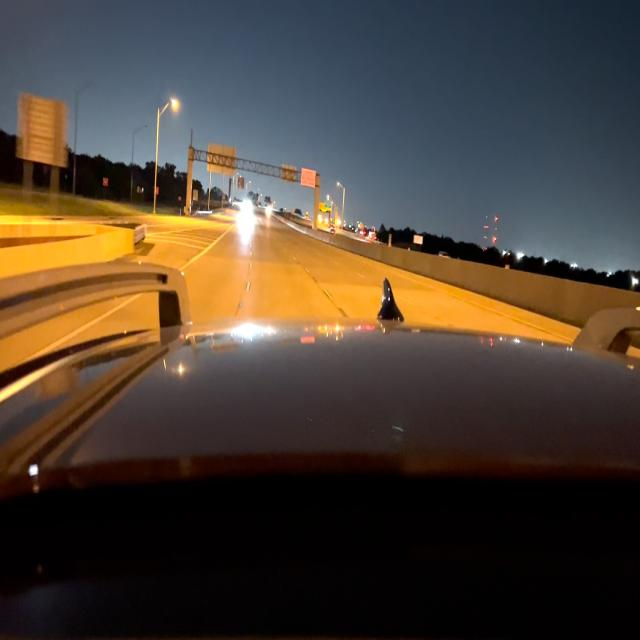back-of-sign: (19, 92, 67, 166)
